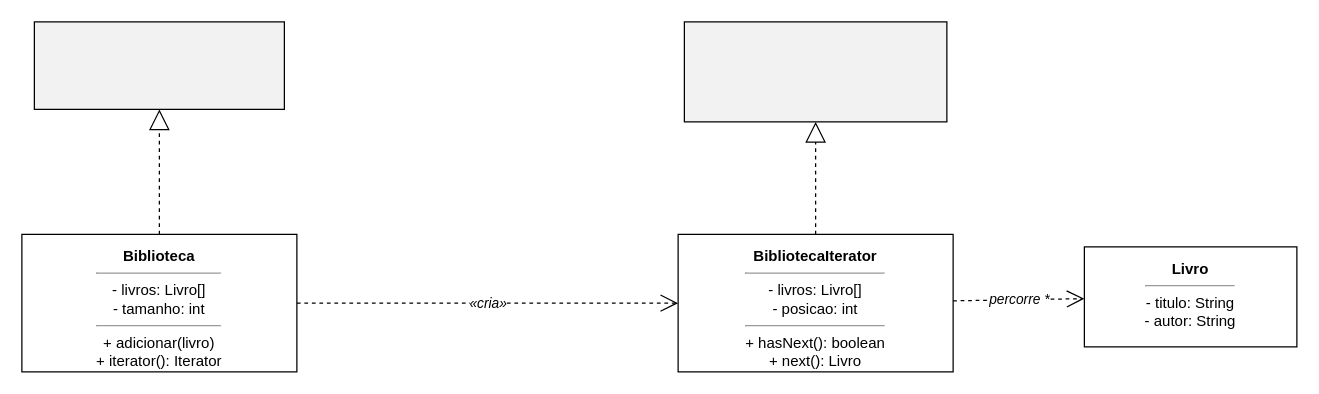
Image size: 1319x394. Some labels were removed from this diagram. Each missing label, with the box of its shape:
«interface» Iterable<Livro> + iterator(): Iterator: (33, 21, 284, 109)
«interface» Iterator<Livro> + hasNext(): boolean + next(): Livro: (683, 21, 947, 122)
